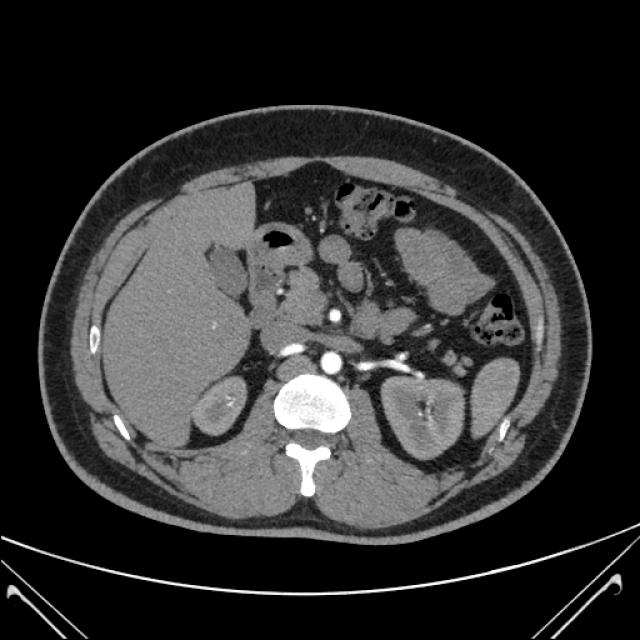Kidney: (89, 43, 629, 524)
